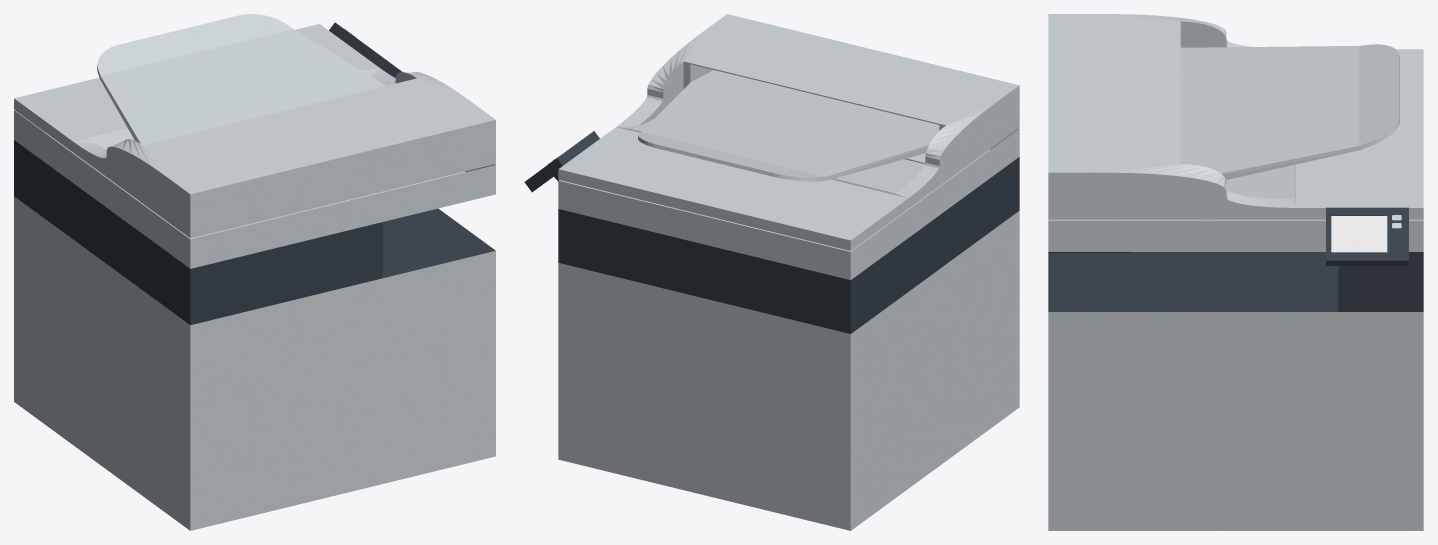
The model's file is 05_MFU_destructible.glb.
3 views of the same model, side by side, from view 1: azimuth 30°, elevation 25°; view 2: azimuth 150°, elevation 25°; view 3: azimuth 270°, elevation 25° (orthographic). The views are drawn at different scales.
Visible parts, largest first — view 1: MFU_Intact; view 2: MFU_Intact; view 3: MFU_Intact.
Part boxes in pixels (x1,y1,x2,y2): MFU_Intact: [14, 14, 495, 530]; MFU_Intact: [524, 14, 1019, 530]; MFU_Intact: [1048, 14, 1423, 530].
Bounding box in the file's own units: 0.9278 × 0.8738 × 0.8146.
4 materials, 4 textured.
